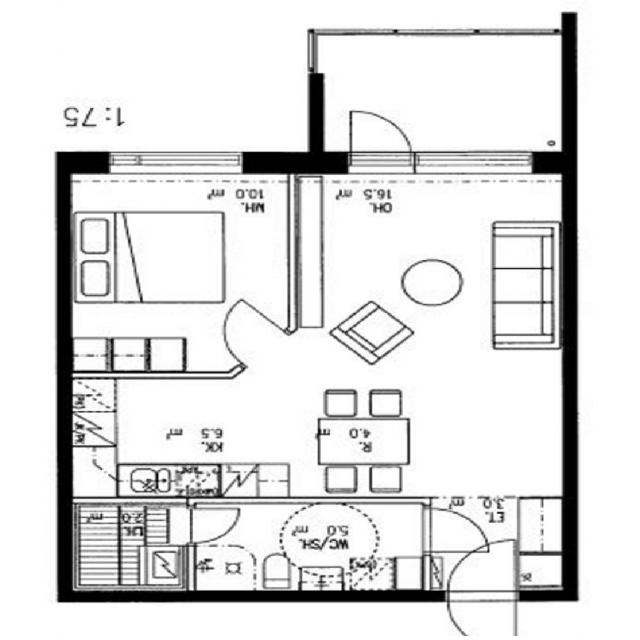door: (201, 299, 290, 366), (448, 539, 516, 601), (351, 107, 410, 173), (422, 508, 490, 552), (182, 508, 240, 542)
